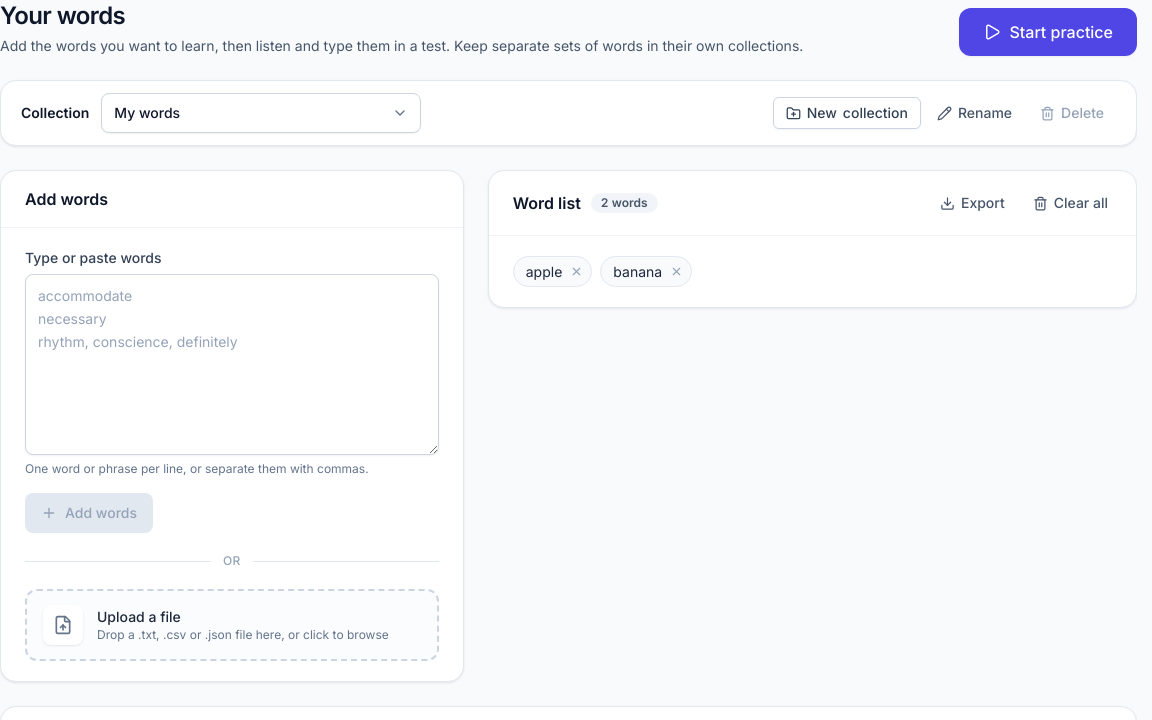
Scenario: WordLibrary › clears the list after confirmation
The image size is (1152, 720).
Click the button "Clear all".
click(1070, 203)  # box [1021,187,1120,219]
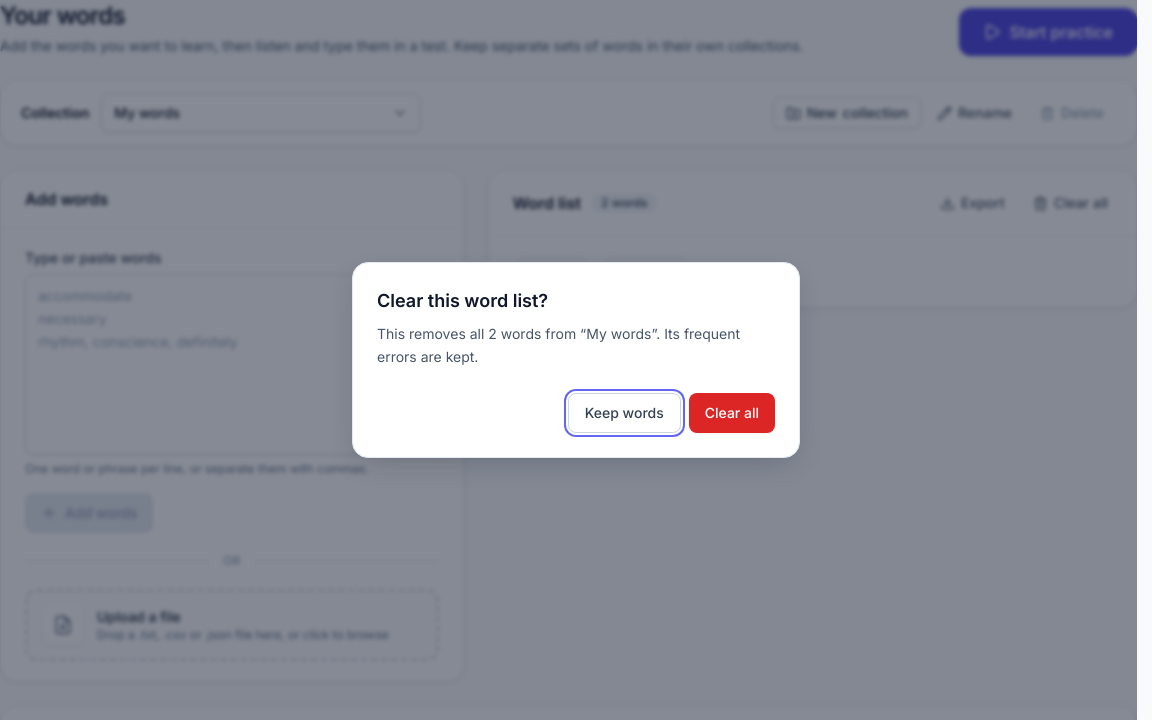
Click the button "Clear all".
click(732, 413)  # box [689,393,775,433]
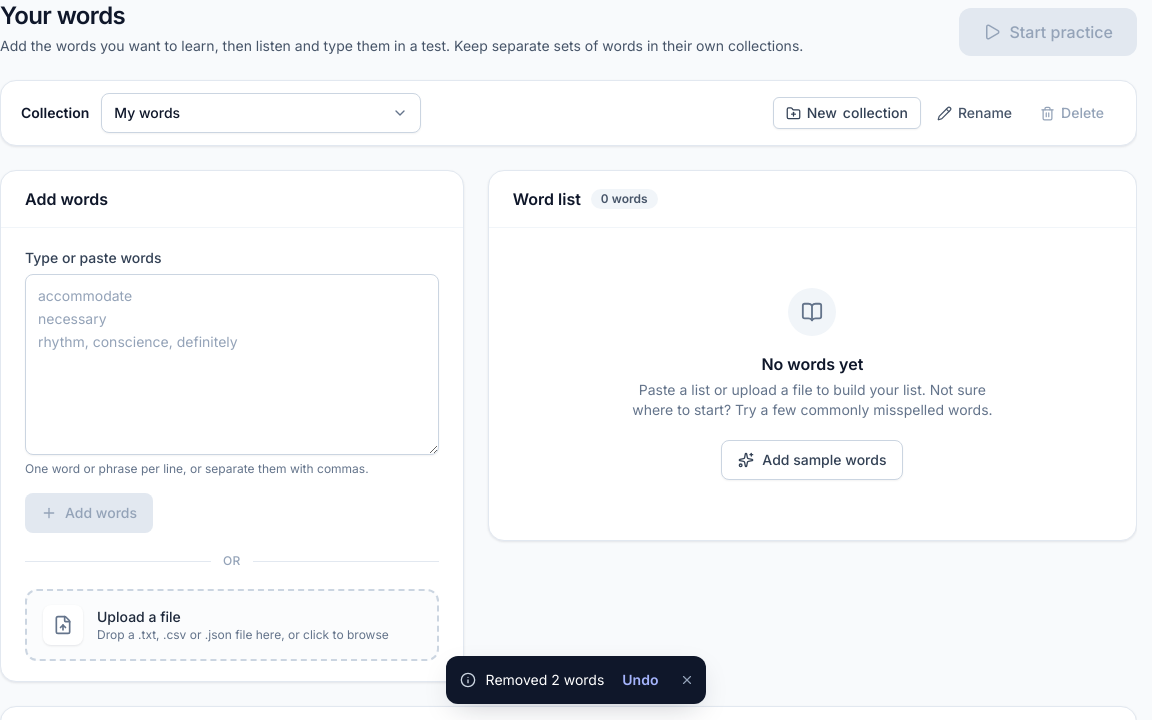
Expected: the text "No words yet" is shown, [761,352,863,376]
